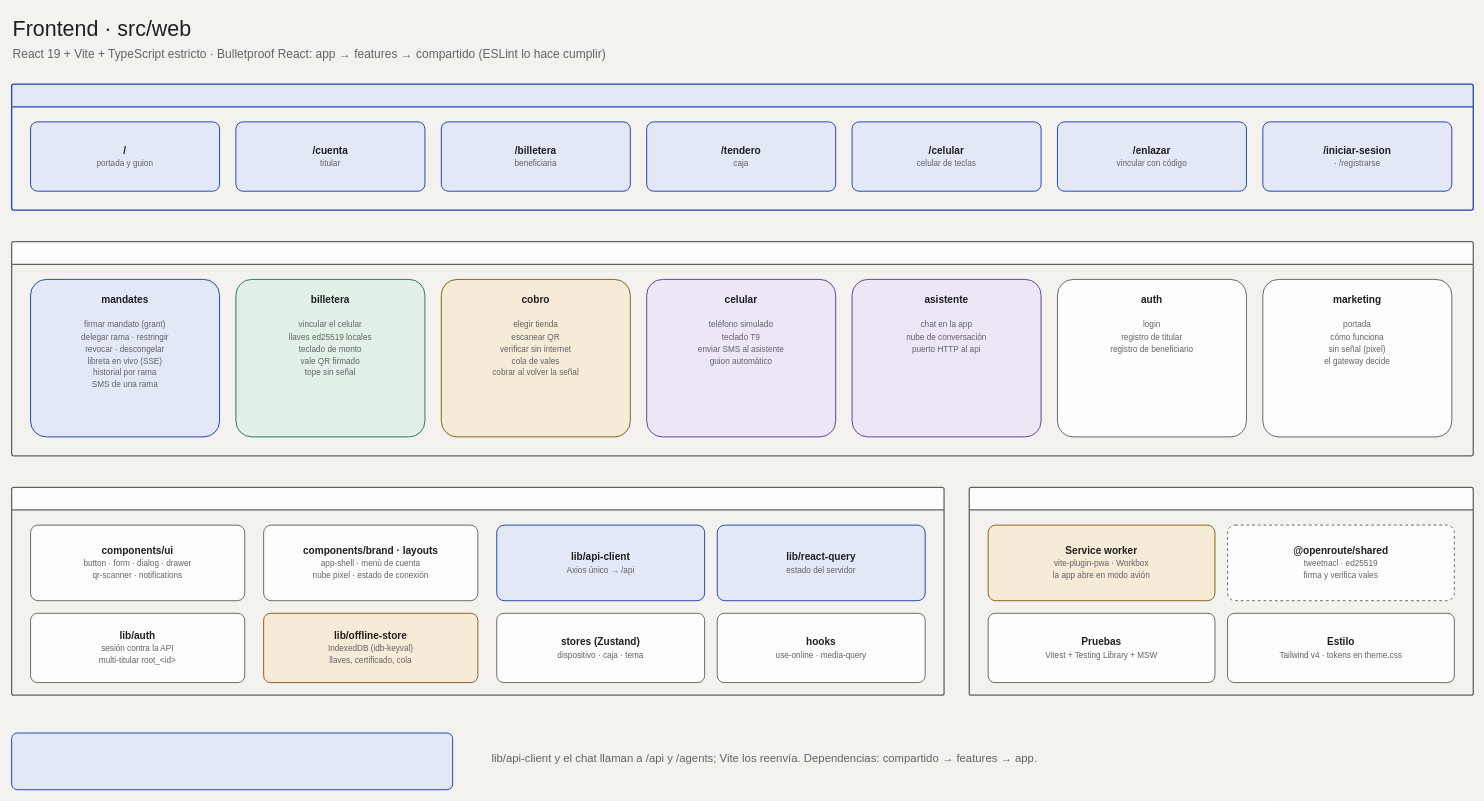
Some shapes in this 1484 by 801 pixel diagram are drawn without their labels. Each missing label, with the box of its shape:
app/ · rutas (una por tipo de cuenta): (11, 83, 1474, 210)
compartido · components · lib · stores · hooks: (11, 486, 944, 696)
features/ · un módulo por dominio (sin imports entre features): (11, 241, 1474, 456)
PWA y contrato: (968, 486, 1474, 696)
Vite proxy / vite preview /api → api :3001 · /agents → agents :8000: (11, 732, 453, 790)
